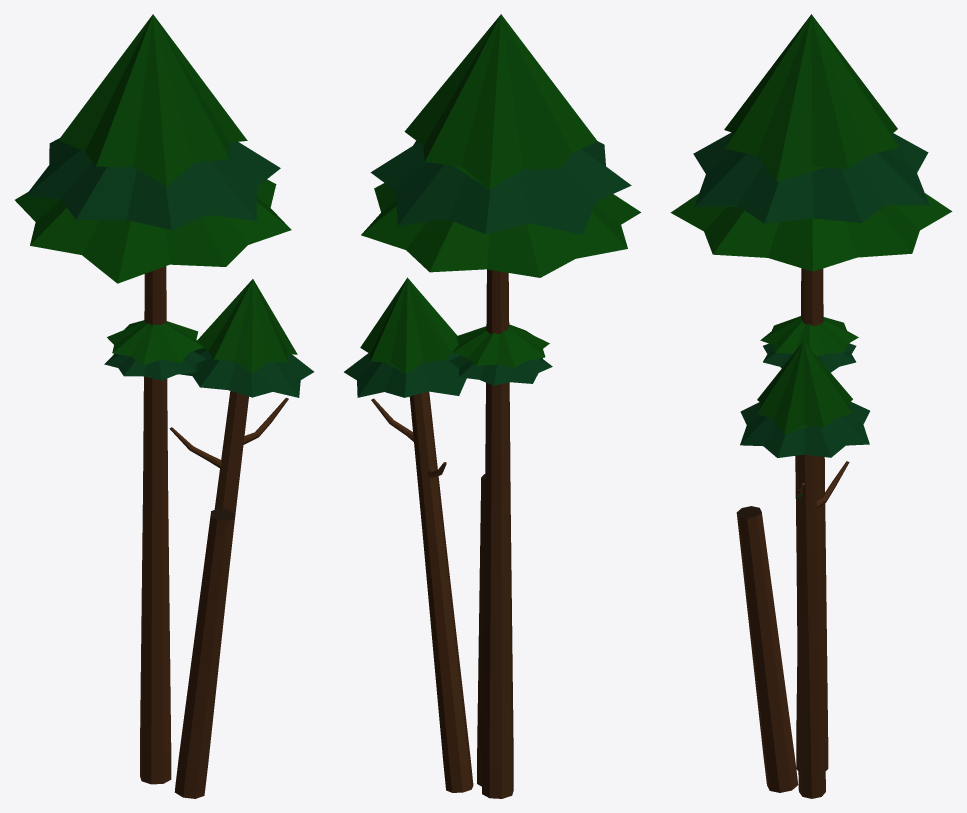
The model's file is Pine-Small-3.fbx.
The picture shows the model from 3 angles, left to right: view 1: azimuth 30°, elevation 25°; view 2: azimuth 150°, elevation 25°; view 3: azimuth 270°, elevation 25°; orthographic projection. The views are drawn at different scales.
Visible parts, largest first — view 1: Cylinder.036; view 2: Cylinder.036; view 3: Cylinder.036.
Part boxes in pixels (x1,y1,x2,y2): Cylinder.036: [15, 14, 313, 798]; Cylinder.036: [344, 14, 640, 798]; Cylinder.036: [670, 14, 952, 798].
Size of the model in its own units: 285 by 783 by 263.
